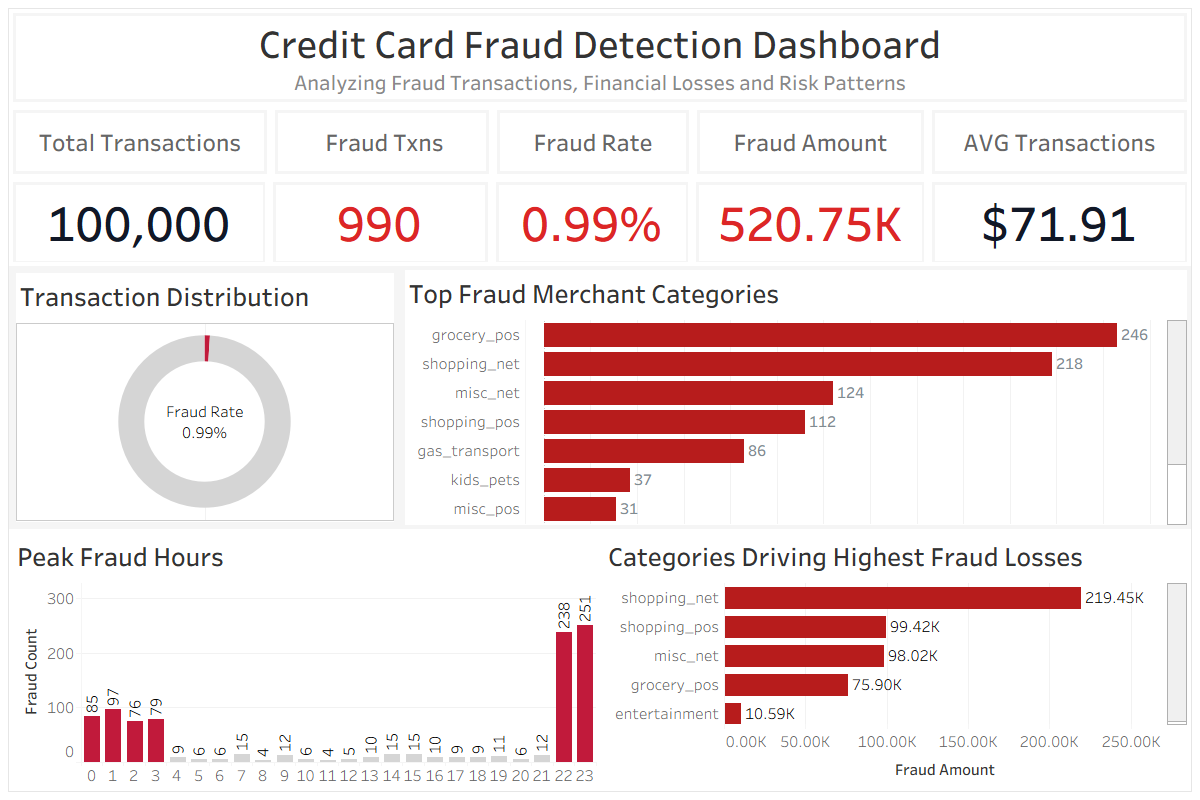

This screenshot's page, from the dashboard's own definition file:
{"tool":"tableau","page":{"name":"Dashboard 1","canvas":[1200,800],"ordinal":0},"visuals":[{"type":"text","box":[9,9,1182,96.8]},{"type":"text","box":[9,105.8,261.5,71.8]},{"type":"text","box":[270.5,105.8,222.6,71.8]},{"type":"text","box":[493.2,105.8,199.7,71.8]},{"type":"text","box":[692.8,105.8,235.6,71.8]},{"type":"text","box":[928.4,105.8,262.6,71.8]},{"type":"worksheet","title":"KPI - Total Transactions","mark":"Automatic","box":[9,177.6,260,88.8]},{"type":"worksheet","title":"KPI - Fraud Transactions","mark":"Automatic","box":[269,177.6,223,88.8]},{"type":"worksheet","title":"KPI - Fraud Rate","mark":"Automatic","box":[492,177.6,200,88.8]},{"type":"worksheet","title":"KPI - Fraud Amount","mark":"Automatic","box":[692,177.6,236,88.8]},{"type":"worksheet","title":"KPI - Avg Transactions","mark":"Automatic","box":[928,177.6,263,88.8]},{"type":"worksheet","title":"Transaction Distribution","mark":"Pie","cols":["Calculation_1891993898926088","Calculation_1891993898926088"],"box":[9,266.3,392,262.3]},{"type":"worksheet","title":"Top Fraud Categories","mark":"Bar","rows":["category"],"cols":["Calculation_1891993863593984"],"box":[401,266.3,790,262.3]},{"type":"worksheet","title":"Fraud by Hour","mark":"Bar","rows":["Calculation_1891993863593984"],"cols":["Hour"],"box":[9,528.7,591,262.3]},{"type":"worksheet","title":"Fraud Amount by Category","mark":"Automatic","rows":["category"],"cols":["Calculation_1891993865236482"],"box":[600,528.7,591,262.3]}]}

Visuals, with their boxes in screenshot pixels (x1, y1, x2, y2), scaled from the page's 1200x800 canvas onto the 1200x800 screenshot:
text: pyautogui.locateOnScreen(9, 9, 1191, 106)
text: pyautogui.locateOnScreen(9, 106, 270, 178)
text: pyautogui.locateOnScreen(270, 106, 493, 178)
text: pyautogui.locateOnScreen(493, 106, 693, 178)
text: pyautogui.locateOnScreen(693, 106, 928, 178)
text: pyautogui.locateOnScreen(928, 106, 1191, 178)
"KPI - Total Transactions" worksheet: pyautogui.locateOnScreen(9, 178, 269, 266)
"KPI - Fraud Transactions" worksheet: pyautogui.locateOnScreen(269, 178, 492, 266)
"KPI - Fraud Rate" worksheet: pyautogui.locateOnScreen(492, 178, 692, 266)
"KPI - Fraud Amount" worksheet: pyautogui.locateOnScreen(692, 178, 928, 266)
"KPI - Avg Transactions" worksheet: pyautogui.locateOnScreen(928, 178, 1191, 266)
"Transaction Distribution" worksheet (Pie marks): pyautogui.locateOnScreen(9, 266, 401, 529)
"Top Fraud Categories" worksheet (Bar marks): pyautogui.locateOnScreen(401, 266, 1191, 529)
"Fraud by Hour" worksheet (Bar marks): pyautogui.locateOnScreen(9, 529, 600, 791)
"Fraud Amount by Category" worksheet: pyautogui.locateOnScreen(600, 529, 1191, 791)
